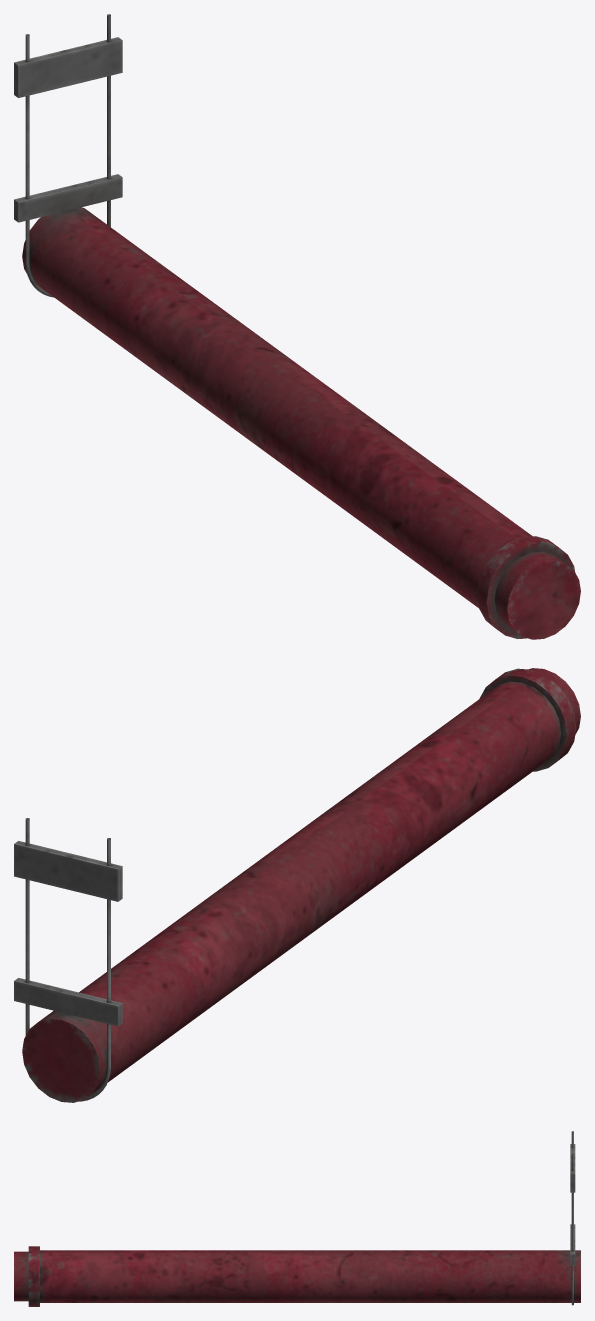
The model's file is SM_Roof_Pipe_01.fbx.
3 views of the same model, one above another, from view 1: azimuth 30°, elevation 25°; view 2: azimuth 150°, elevation 25°; view 3: azimuth 270°, elevation 25° (orthographic). The views are drawn at different scales.
Parts seen in each view (by area): view 1: SM_Roof_Pipe_01_LOD0; view 2: SM_Roof_Pipe_01_LOD0; view 3: SM_Roof_Pipe_01_LOD0.
Boxes of the visible parts, x1=… form: SM_Roof_Pipe_01_LOD0: x1=14, y1=14, x2=580, y2=639; SM_Roof_Pipe_01_LOD0: x1=14, y1=668, x2=580, y2=1102; SM_Roof_Pipe_01_LOD0: x1=14, y1=1131, x2=580, y2=1306.
Bounding box in the file's own units: 24.94 × 200 × 62.6.
1 material, 1 textured.
